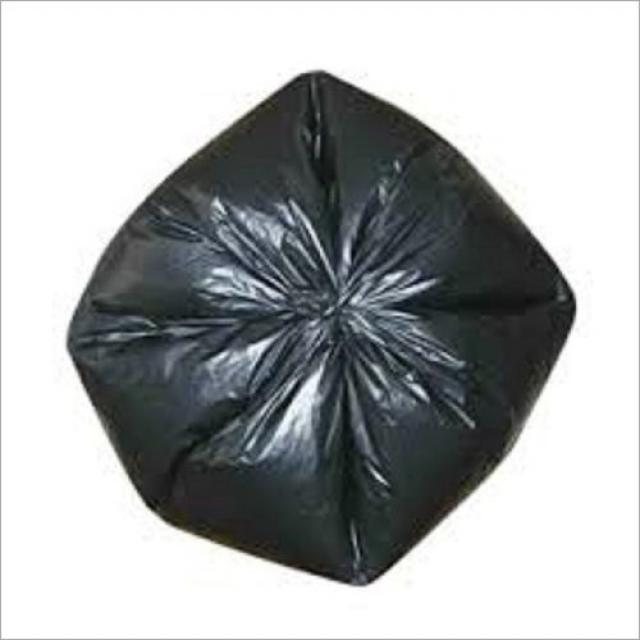plastic_bag: (54, 46, 587, 558)
